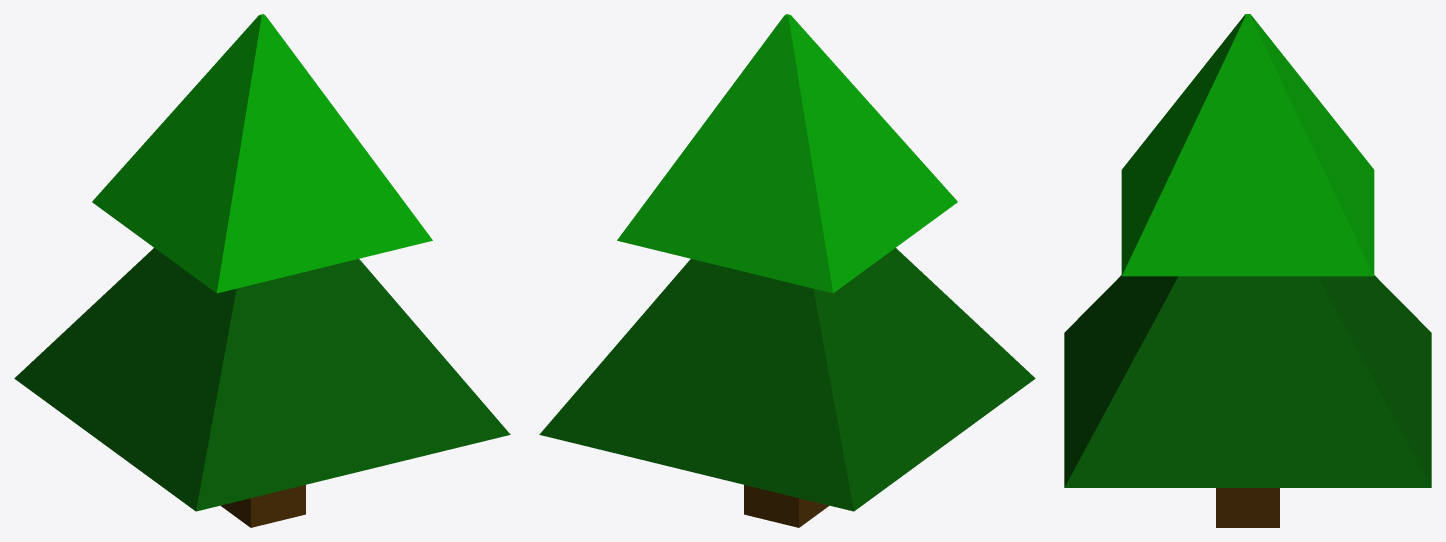
The model's file is pine.gltf.
3 renders of one model, left to right at view 1: azimuth 30°, elevation 25°; view 2: azimuth 150°, elevation 25°; view 3: azimuth 270°, elevation 25°, orthographic.
Parts seen in each view (by area): view 1: low, high, trunk; view 2: low, high, trunk; view 3: low, high, trunk.
Part boxes in pixels (x1,y1,x2,y2): low: (14,248,510,511); high: (92,14,432,293); trunk: (221,485,305,527); low: (539,248,1035,511); high: (617,14,957,293); trunk: (744,485,828,527); low: (1064,275,1431,487); high: (1121,14,1374,276); trunk: (1216,488,1279,527).
Size of the model in its own units: 0.8 by 1.2 by 0.8.
